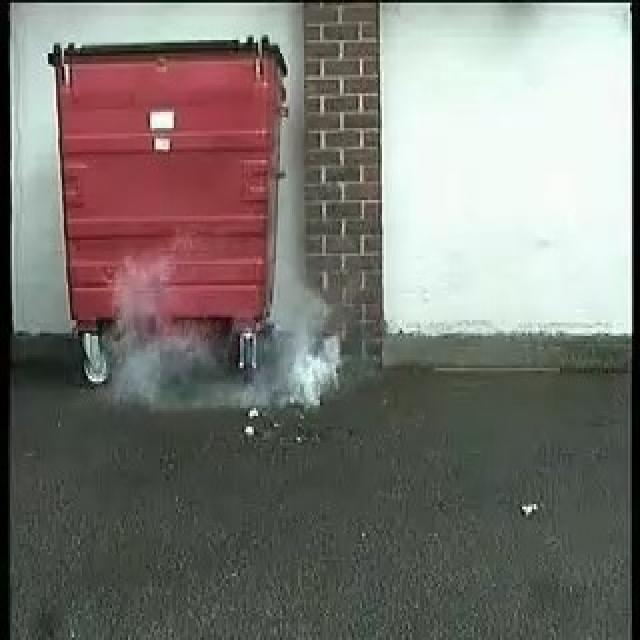smoke: (109, 260, 343, 410)
